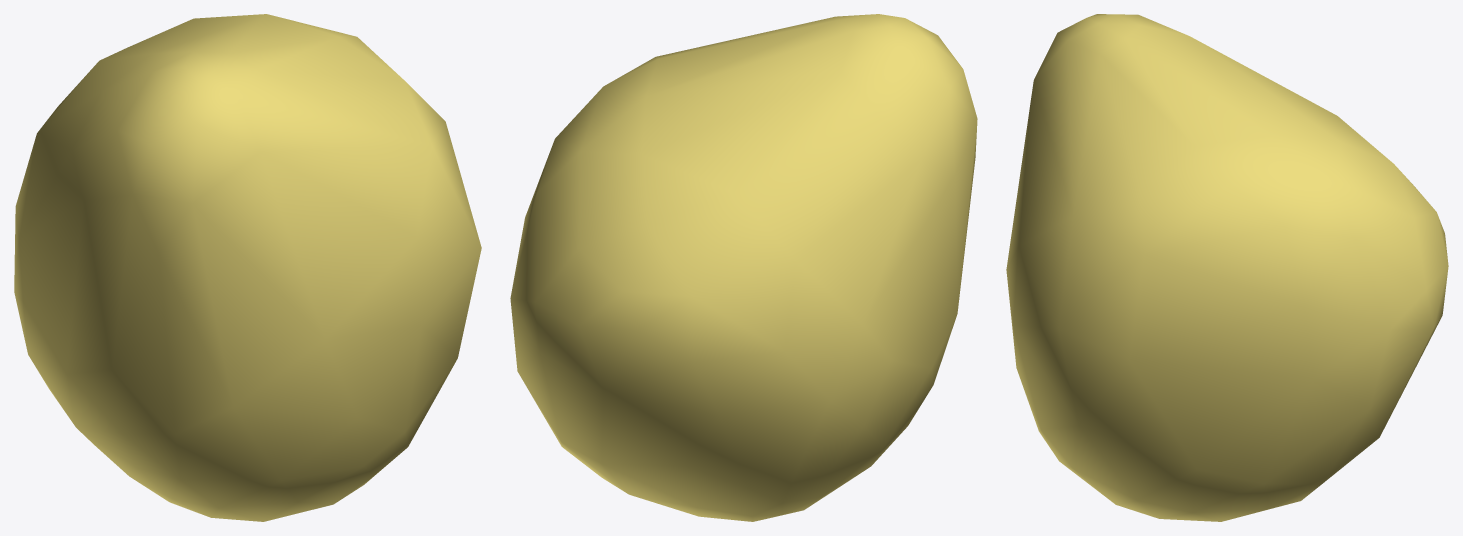
File: mamillary-body-r.glb
3 renders of one model, left to right at view 1: azimuth 30°, elevation 25°; view 2: azimuth 150°, elevation 25°; view 3: azimuth 270°, elevation 25°, orthographic. The views are drawn at different scales.
Visible parts, largest first — view 1: Mamillary body.r; view 2: Mamillary body.r; view 3: Mamillary body.r.
Part boxes in pixels (x1,y1,x2,y2): Mamillary body.r: (14,14,481,521); Mamillary body.r: (510,14,977,521); Mamillary body.r: (1006,14,1448,521).
Size of the model in its own units: 0.00384 by 0.00487 by 0.00443.
